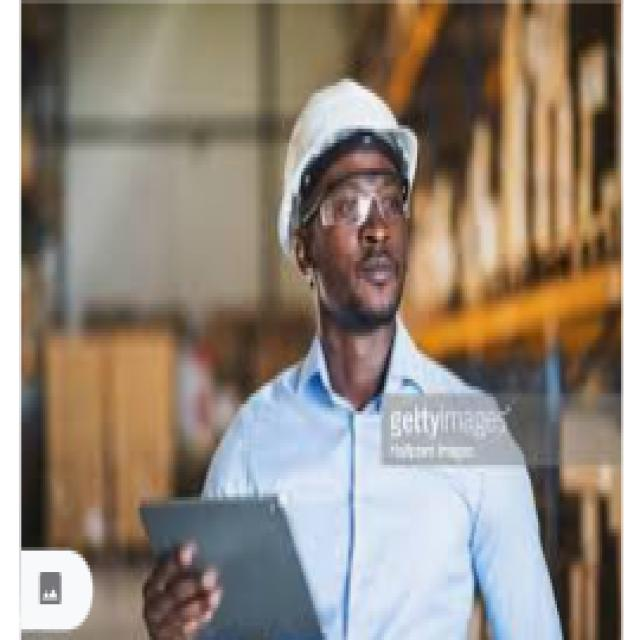glasses: (308, 178, 407, 225)
